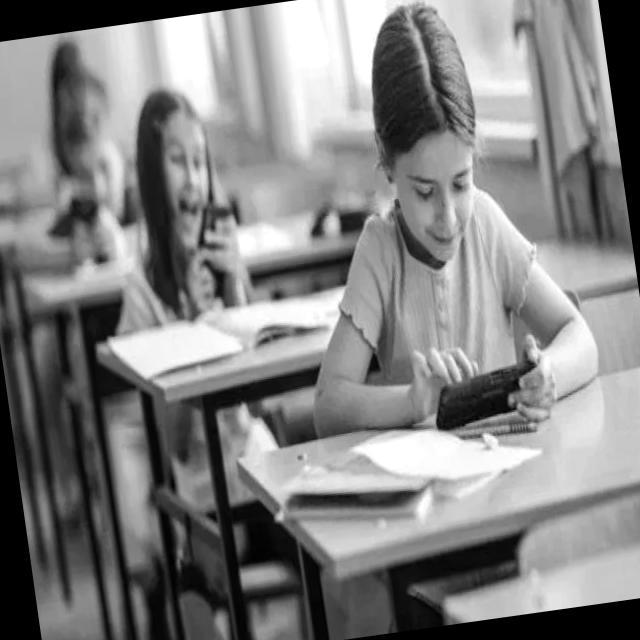phone: (428, 356, 544, 432), (190, 197, 244, 285), (68, 193, 100, 226)
